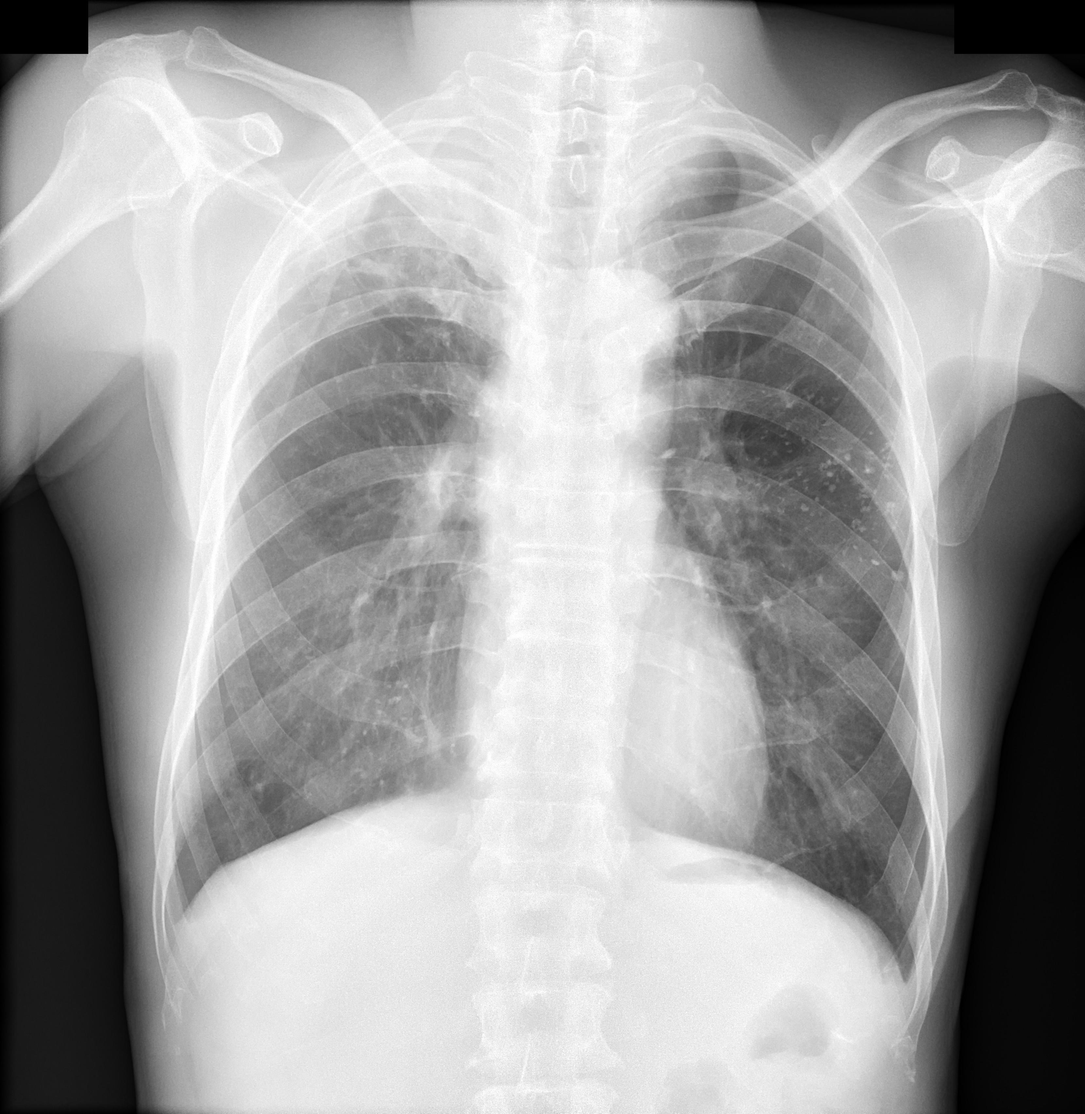Aortic enlargement: (575, 266, 680, 366)
Pleural thickening: (709, 341, 915, 589)
Pulmonary fibrosis: (314, 119, 533, 412)
